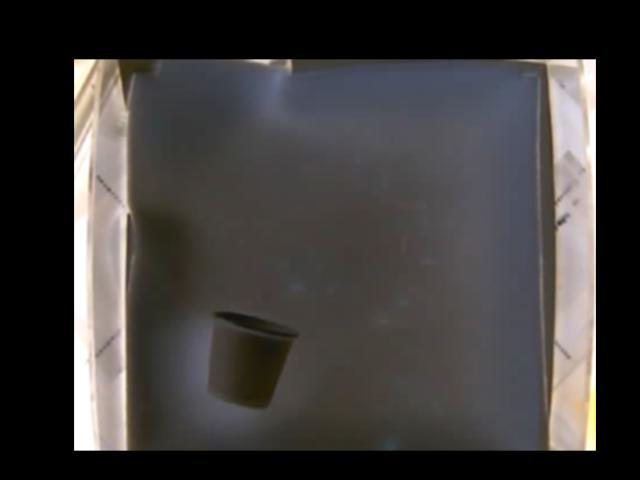Cup: (203, 310, 299, 408)
